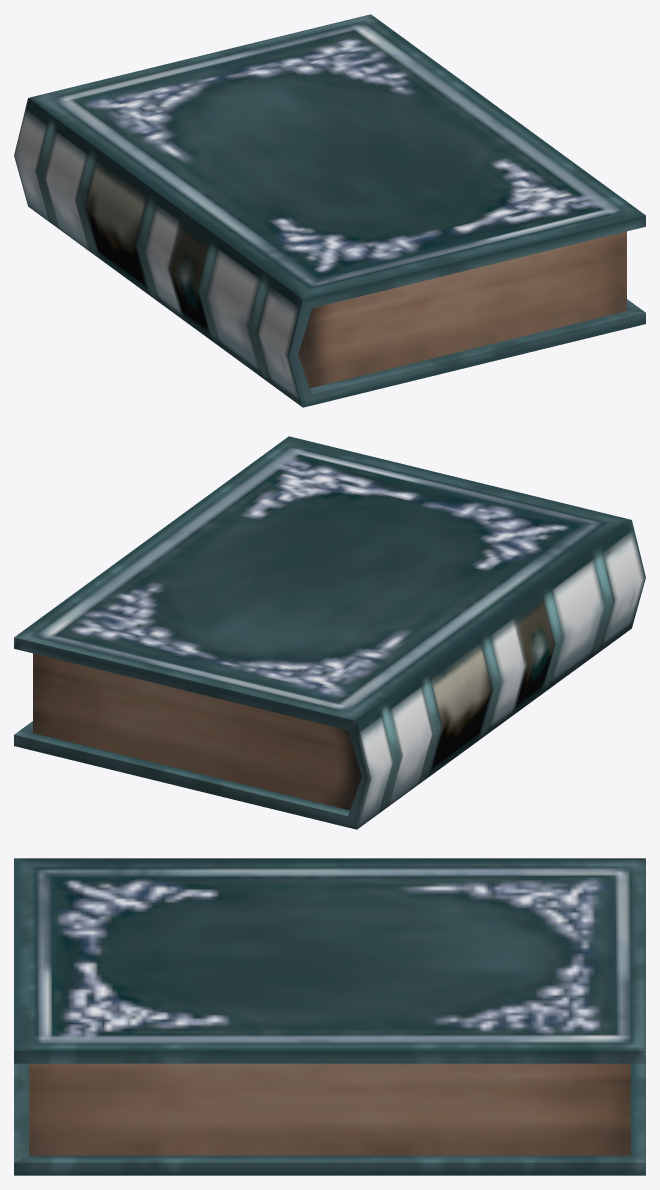
Rendered from book_006.fbx.
3 views of the same model, one above another, from view 1: azimuth 30°, elevation 25°; view 2: azimuth 150°, elevation 25°; view 3: azimuth 270°, elevation 25° (orthographic). The views are drawn at different scales.
Parts seen in each view (by area): view 1: book; view 2: book; view 3: book.
Boxes of the visible parts, x1,y1,x2,y2 form: book: (14,14,645,407); book: (14,436,645,829); book: (14,858,645,1175).
Bounding box in the file's own units: 17.6 × 5.11 × 23.47.
